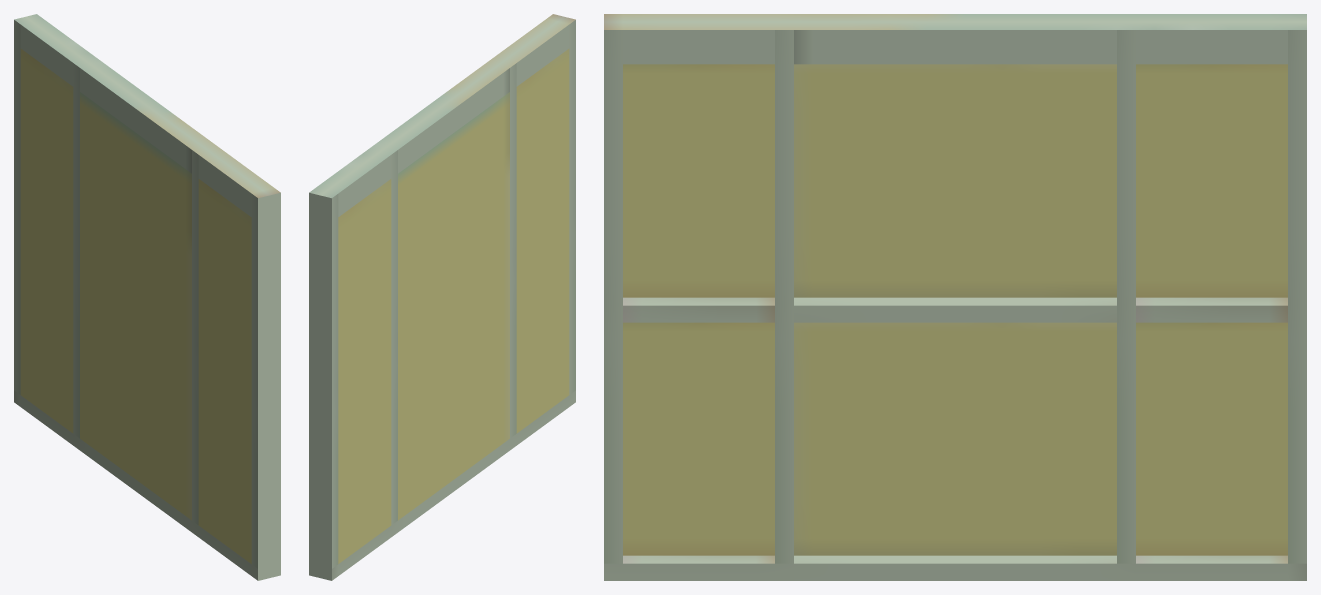
Rendered from WindowFrameOutside_01.obj.
3 views of the same model, side by side, from view 1: azimuth 30°, elevation 25°; view 2: azimuth 150°, elevation 25°; view 3: azimuth 270°, elevation 25° (orthographic). The views are drawn at different scales.
Parts seen in each view (by area): view 1: WindowFrameOutside_01; view 2: WindowFrameOutside_01; view 3: WindowFrameOutside_01.
Part boxes in pixels (<box>): WindowFrameOutside_01: <box>14,14,280,580</box>; WindowFrameOutside_01: <box>309,14,575,580</box>; WindowFrameOutside_01: <box>604,14,1306,580</box>.
Bounding box in the file's own units: 0.1 × 1.6 × 1.85.
